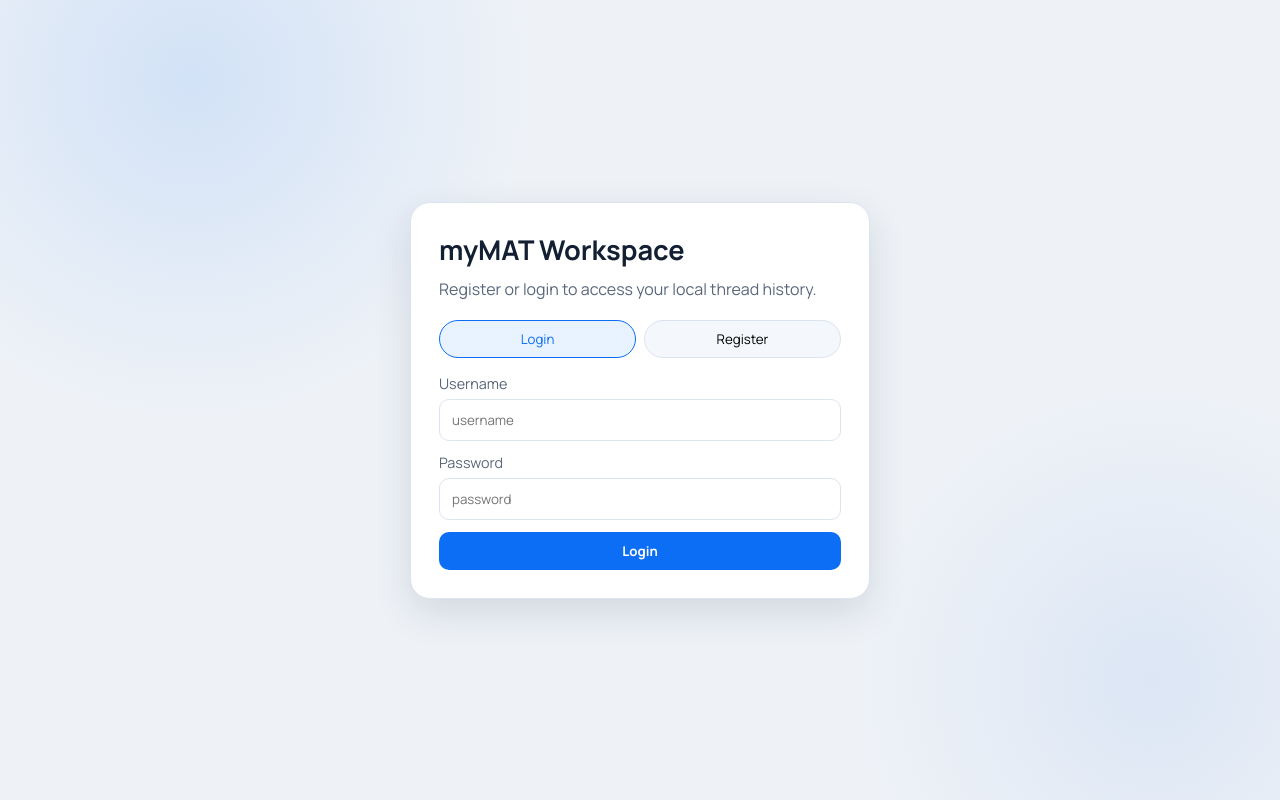
Test: AuthPanel › submits register mode and shows message
Click the tab "Register" at {"x": 742, "y": 338}, box [644,320,841,358]
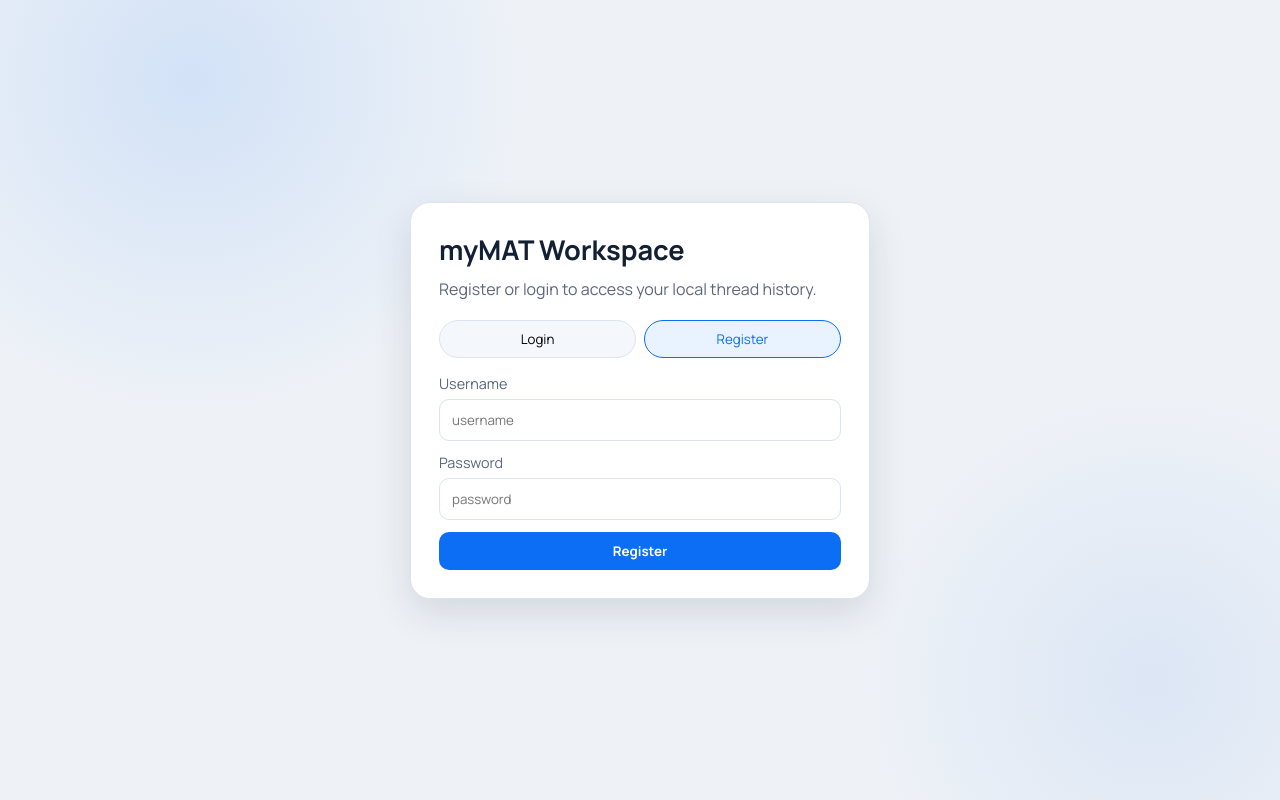
Type "alice" into the field labelled "Username" at {"x": 640, "y": 420}, box [439,398,841,440]
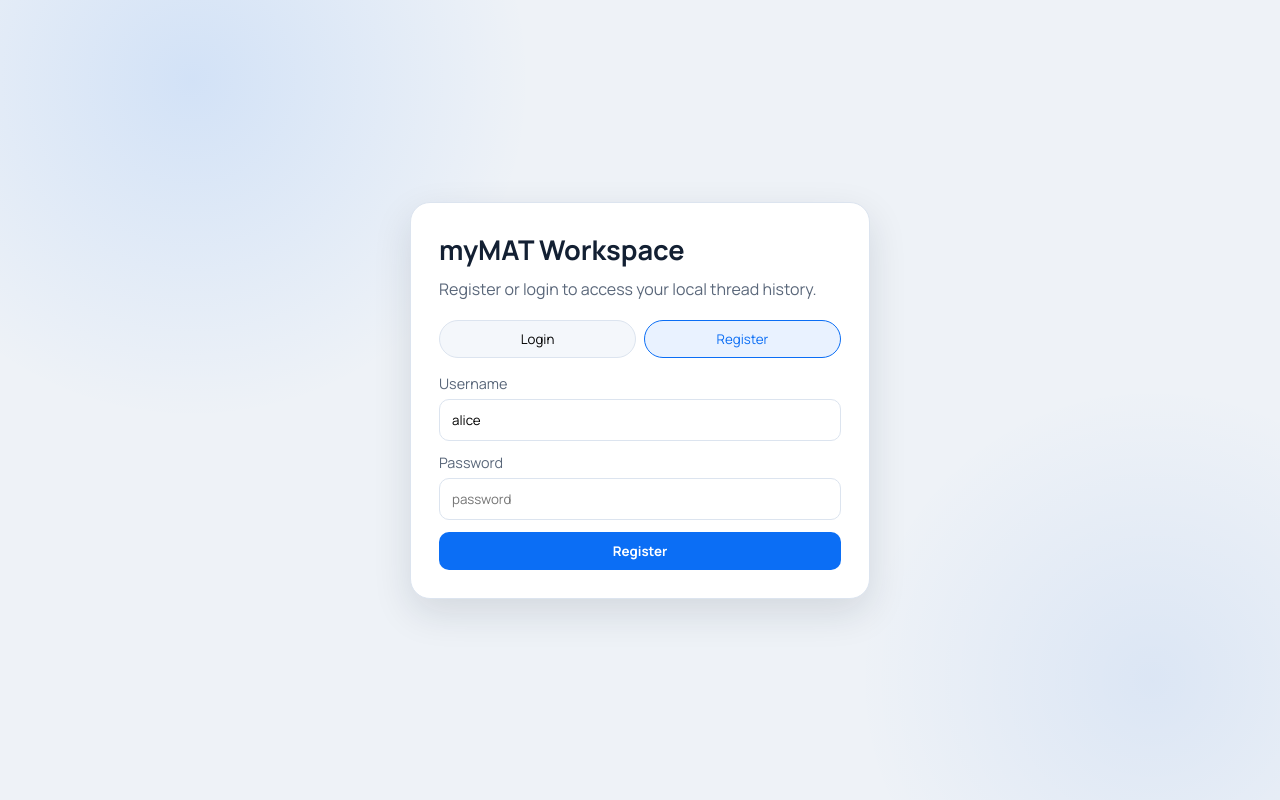
Type "secret" into the password field labelled "Password" at {"x": 640, "y": 498}, box [439,478,841,520]
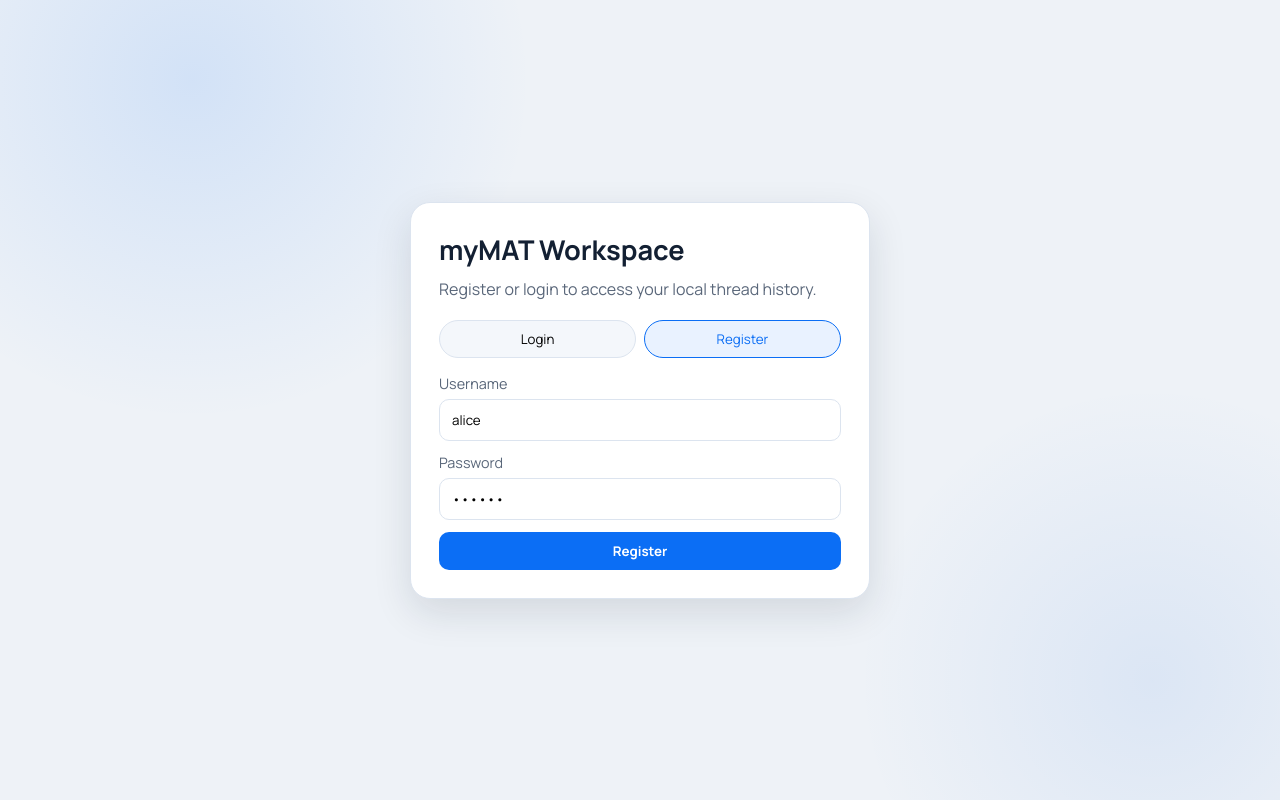
Click the button "Register" at {"x": 640, "y": 550}, box [439,532,841,570]
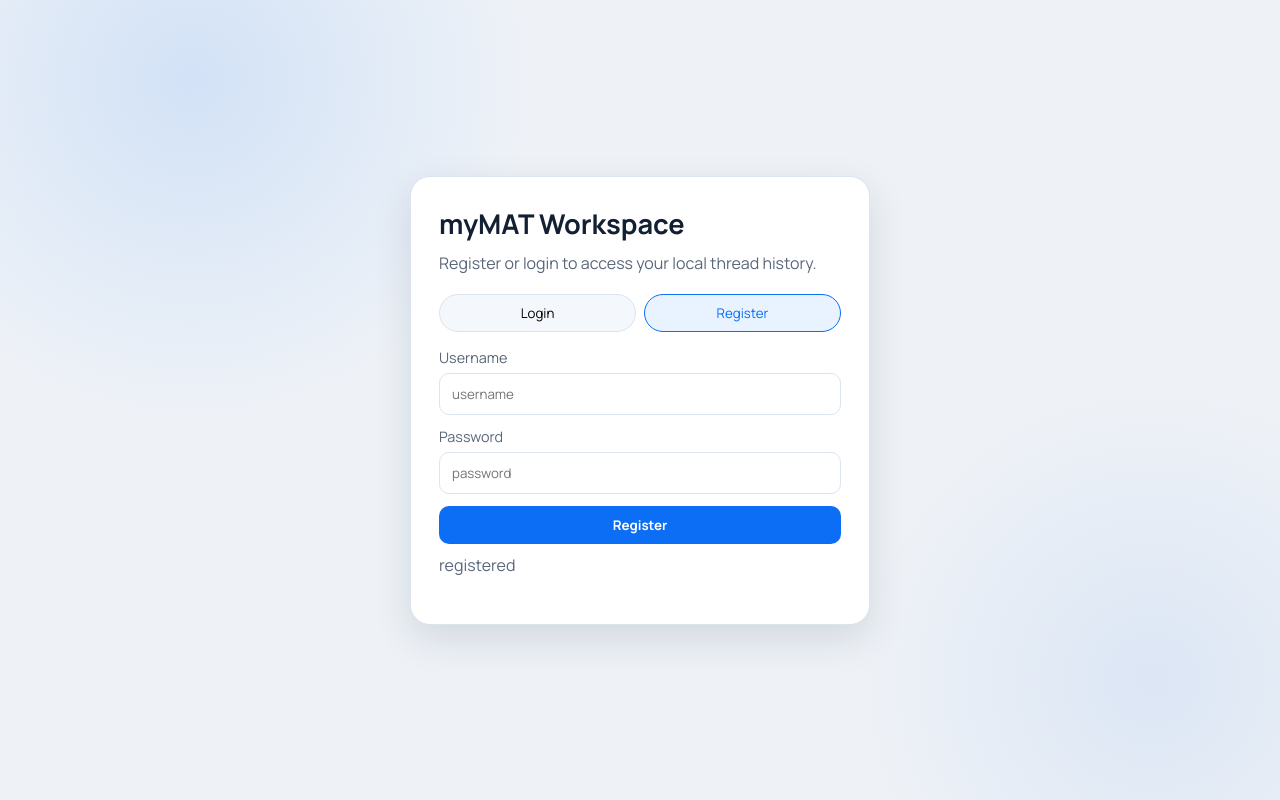
Expected: the text "registered" is shown, [439,554,516,576]
